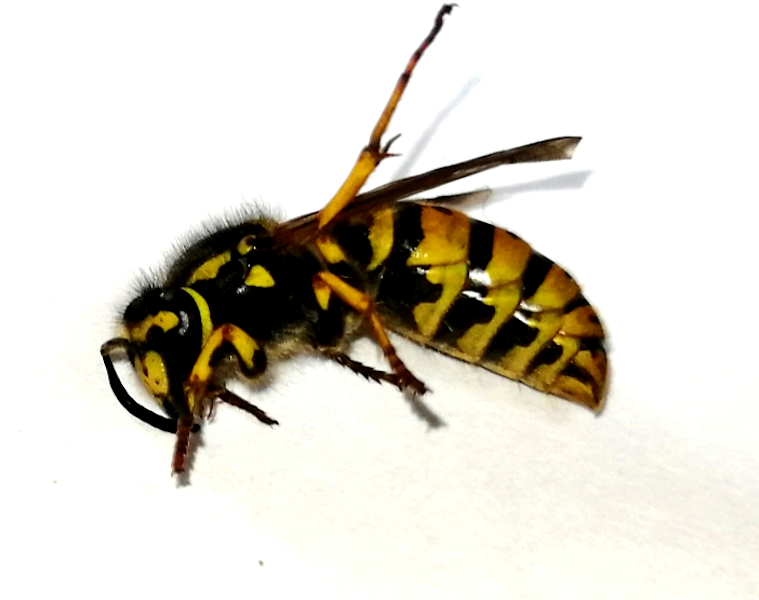chax: (92, 1, 619, 500)
